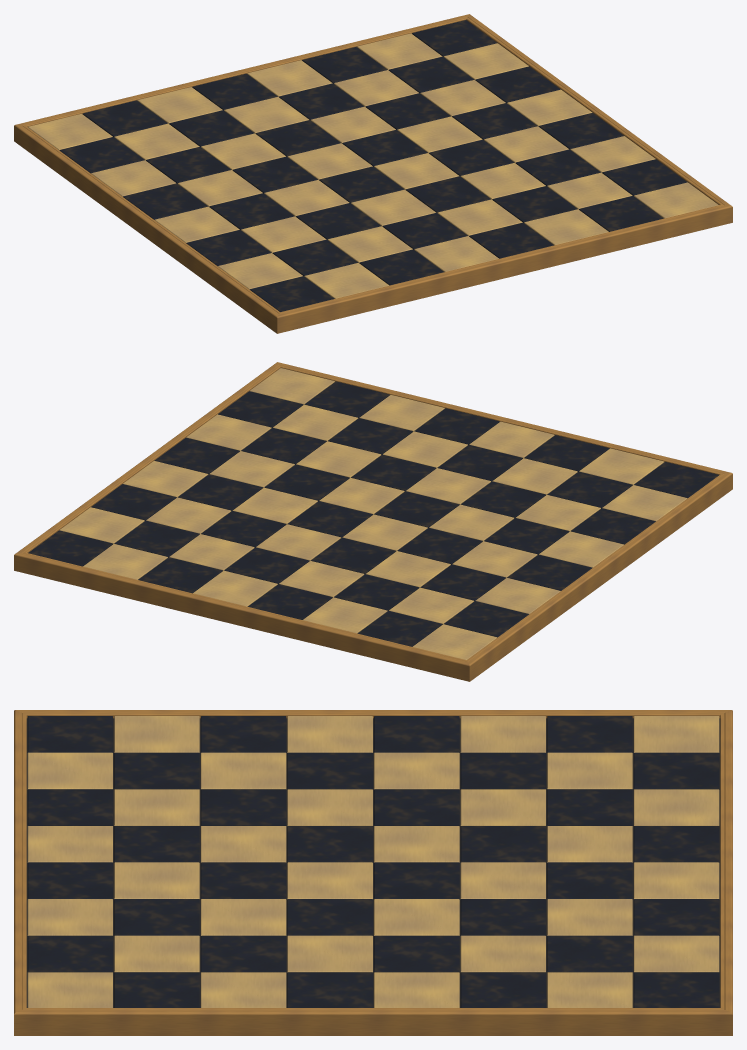
Rendered from board.glb.
The picture shows the model from 3 angles, top to bottom: view 1: azimuth 30°, elevation 25°; view 2: azimuth 150°, elevation 25°; view 3: azimuth 270°, elevation 25°; orthographic projection. The views are drawn at different scales.
Visible parts, largest first — view 1: Squares_Dark, Squares_Brass, Frame; view 2: Squares_Brass, Squares_Dark, Frame; view 3: Squares_Brass, Squares_Dark, Frame, Joint_Floor.
Boxes of the visible parts, x1,y1,x2,y2 form: Squares_Dark: (59, 20, 687, 311); Squares_Brass: (28, 33, 718, 298); Frame: (14, 14, 732, 333); Squares_Brass: (59, 368, 687, 659); Squares_Dark: (28, 381, 718, 646); Frame: (14, 362, 732, 681); Squares_Brass: (27, 716, 719, 1007); Squares_Dark: (27, 716, 719, 1007); Frame: (14, 710, 732, 1035); Joint_Floor: (26, 718, 720, 1007).
Bounding box in the file's own units: 8.3 × 0.2909 × 8.3.
Materials: 4 (3 with a texture image).
